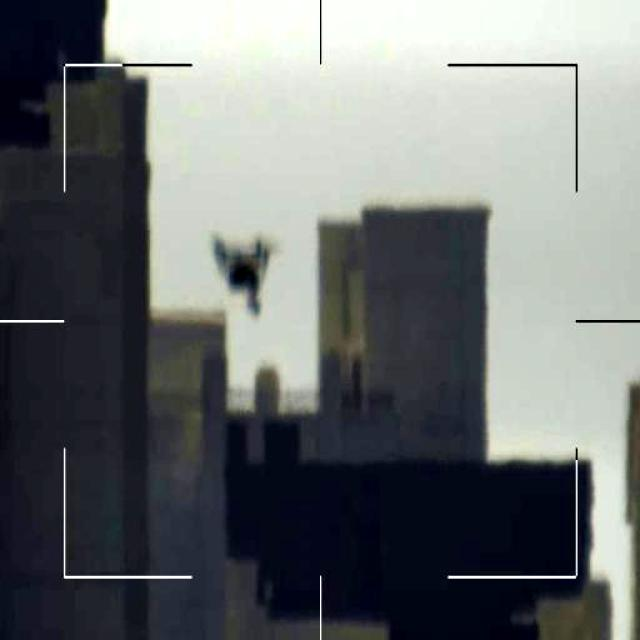bird: (210, 230, 274, 319)
